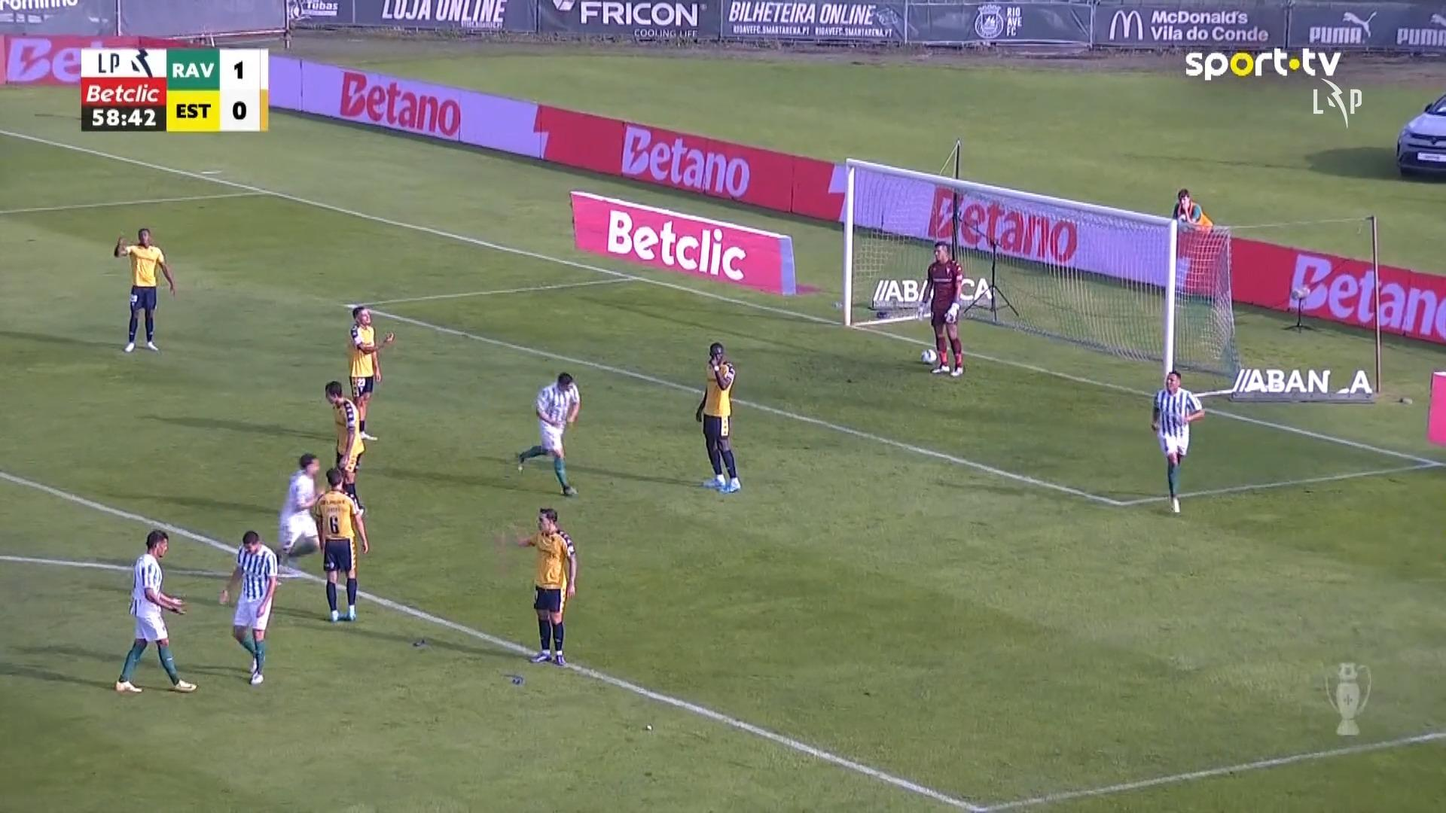ball: (920, 348, 935, 364)
goalkeeper: (917, 240, 966, 376)
player: (114, 528, 197, 693), (516, 507, 578, 666), (218, 529, 279, 685), (310, 466, 369, 622), (515, 371, 581, 496), (112, 227, 175, 352), (1150, 369, 1204, 513), (694, 341, 741, 493), (346, 305, 395, 441), (323, 380, 367, 513), (276, 452, 325, 565)
